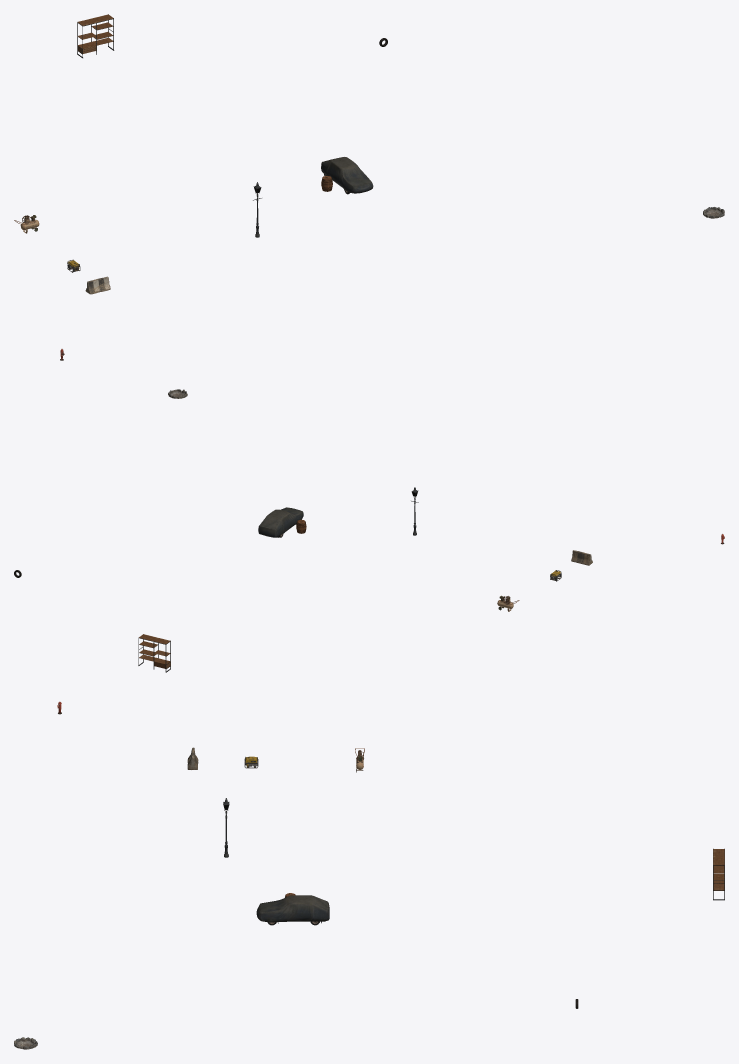
The model's file is biblioteca_mapas.glb.
3 renders of one model, top to bottom at view 1: azimuth 30°, elevation 25°; view 2: azimuth 150°, elevation 25°; view 3: azimuth 270°, elevation 25°, orthographic. The views are drawn at different scales.
Visible parts, largest first — view 1: car_01, shelf_01; view 2: car_01, shelf_01; view 3: car_01.
Part boxes in pixels (left/top/right/bottom): car_01: left=321, top=157, right=373, bottom=194; shelf_01: left=77, top=14, right=114, bottom=58; car_01: left=258, top=507, right=303, bottom=537; shelf_01: left=138, top=634, right=170, bottom=672; car_01: left=256, top=895, right=329, bottom=925.
Bounding box in the file's own units: 48.15 × 3.87 × 42.58.
Materials: 16 (16 with a texture image).
